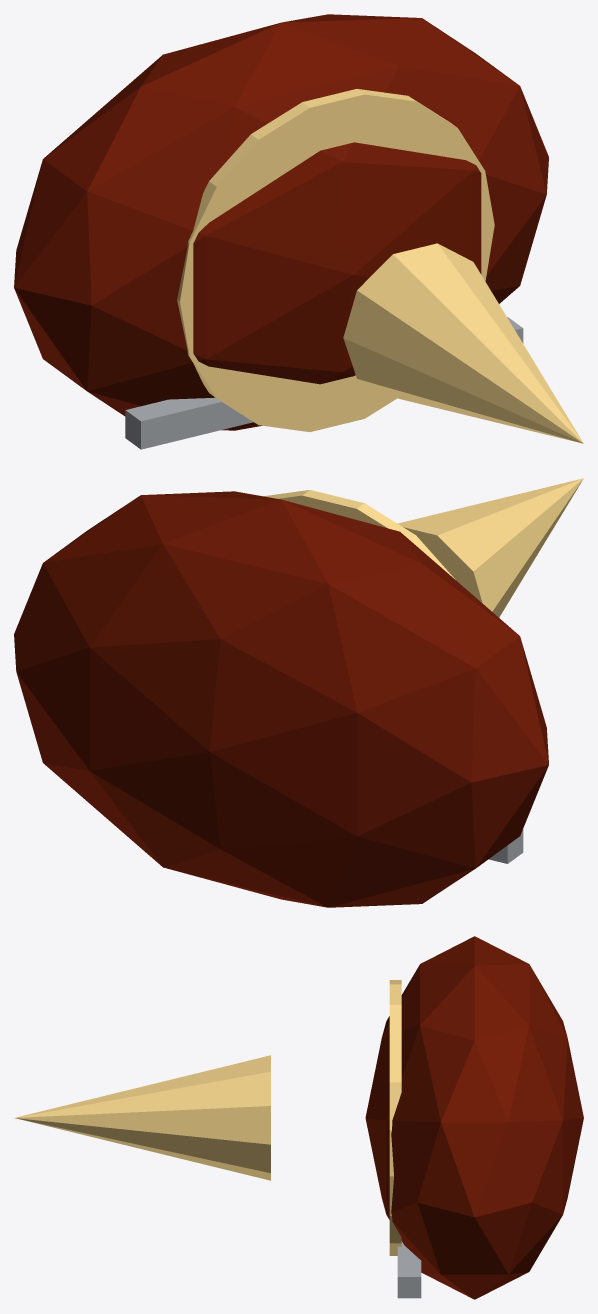
Rendered from 01_landmark_anchor.glb.
3 renders of one model, top to bottom at view 1: azimuth 30°, elevation 25°; view 2: azimuth 150°, elevation 25°; view 3: azimuth 270°, elevation 25°, orthographic. The views are drawn at different scales.
Visible parts, largest first — view 1: basalt_mass, heat_plume, magma_pool, pressure_pipe; view 2: basalt_mass, heat_plume, magma_pool; view 3: basalt_mass, heat_plume, magma_pool, pressure_pipe.
Part boxes in pixels (<box>): basalt_mass: <box>14,14,548,430</box>; heat_plume: <box>343,243,583,443</box>; magma_pool: <box>177,89,494,431</box>; pressure_pipe: <box>125,317,523,449</box>; basalt_mass: <box>14,491,548,907</box>; heat_plume: <box>398,478,583,617</box>; magma_pool: <box>264,490,455,579</box>; basalt_mass: <box>365,936,583,1299</box>; heat_plume: <box>15,1055,270,1180</box>; magma_pool: <box>389,980,401,1255</box>; pressure_pipe: <box>397,1241,421,1298</box>.
Size of the model in its own units: 2.38 by 1.7 by 2.88.
